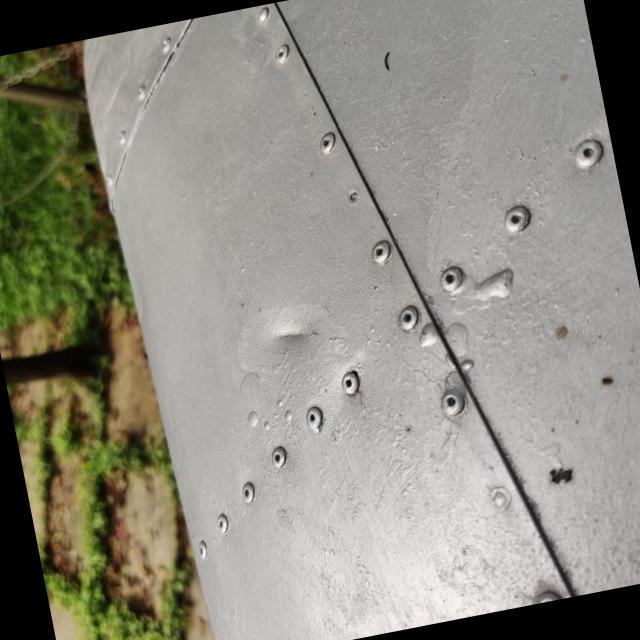Dent: (241, 278, 346, 382)
